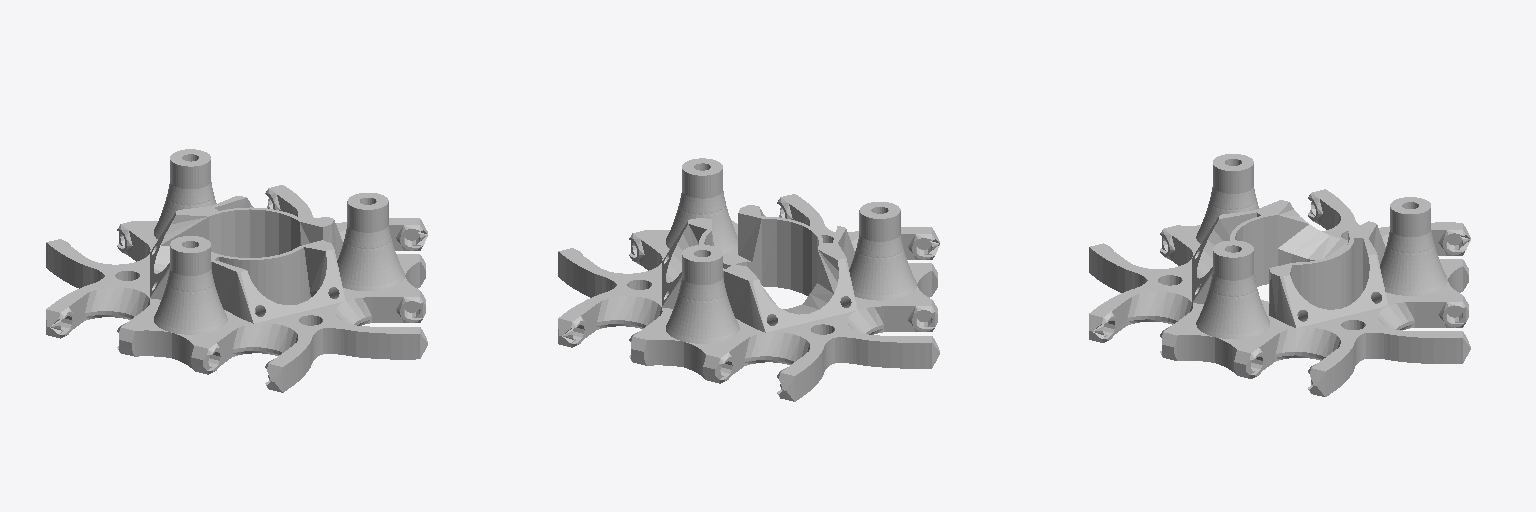
The model's file is Carriage v4.obj.
The picture shows the model from 3 angles: view 1: azimuth 30°, elevation 25°; view 2: azimuth 150°, elevation 25°; view 3: azimuth 270°, elevation 25°; orthographic projection.
Parts seen in each view (by area): view 1: Mesh1 Model; view 2: Mesh1 Model; view 3: Mesh1 Model.
Part boxes in pixels (x1,y1,x2,y2): Mesh1 Model: (46, 149, 427, 392); Mesh1 Model: (558, 158, 939, 401); Mesh1 Model: (1089, 154, 1470, 396).
Bounding box in the file's own units: 107 × 26.94 × 92.88.